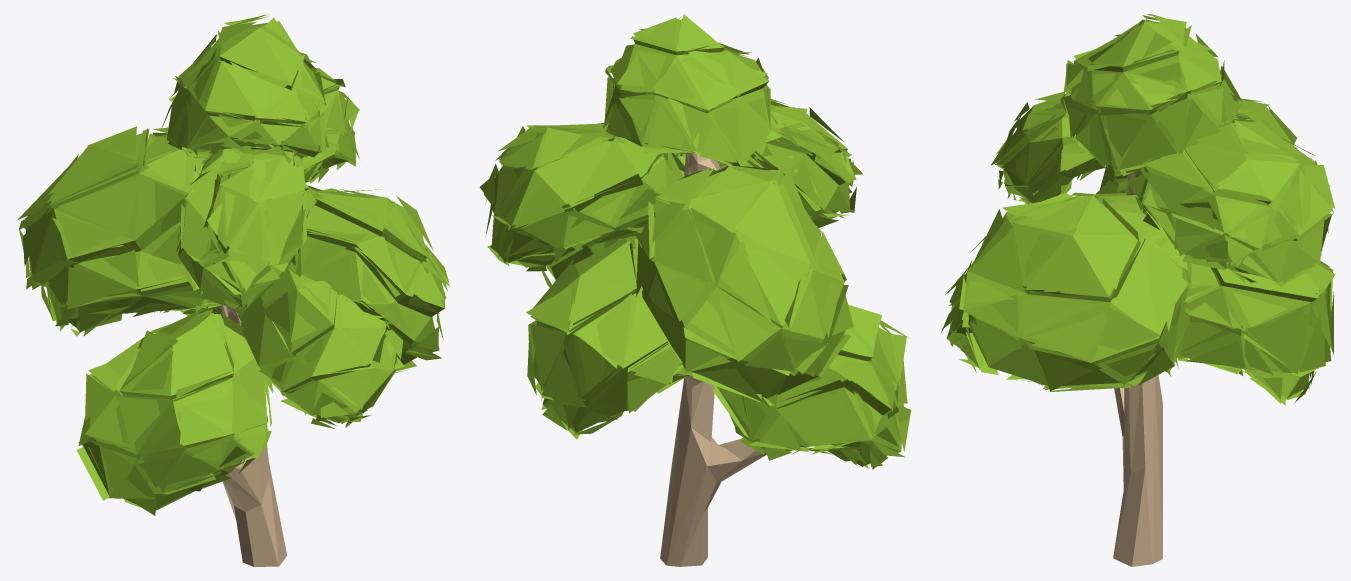
Rendered from Aspen.fbx.
3 views of the same model, side by side, from view 1: azimuth 30°, elevation 25°; view 2: azimuth 150°, elevation 25°; view 3: azimuth 270°, elevation 25° (orthographic). The views are drawn at different scales.
Visible parts, largest first — view 1: Icosphere.018, Icosphere, trunk.005; view 2: Icosphere.018, Icosphere, trunk.005; view 3: Icosphere.018, Icosphere, trunk.005.
Boxes of the visible parts, bbox=[...] form: Icosphere.018: bbox=[17, 14, 450, 515]; Icosphere: bbox=[24, 22, 444, 510]; trunk.005: bbox=[153, 305, 286, 566]; Icosphere.018: bbox=[479, 14, 911, 469]; Icosphere: bbox=[490, 19, 903, 466]; trunk.005: bbox=[660, 153, 766, 566]; Icosphere.018: bbox=[940, 14, 1335, 405]; Icosphere: bbox=[946, 19, 1332, 398]; trunk.005: bbox=[1113, 171, 1162, 566].
Bounding box in the file's own units: 531 × 778 × 517.
